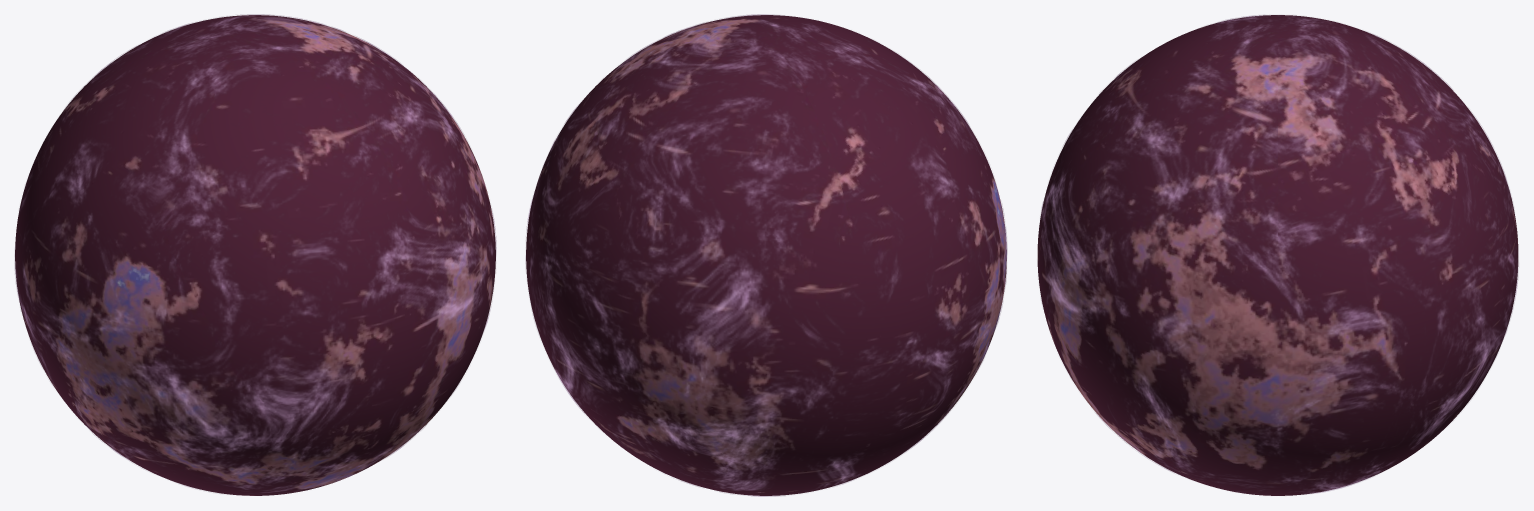
Rendered from red-planet.glb.
3 renders of one model, left to right at view 1: azimuth 30°, elevation 25°; view 2: azimuth 150°, elevation 25°; view 3: azimuth 270°, elevation 25°, orthographic.
Parts seen in each view (by area): view 1: surface.baked, clouds.baked; view 2: surface.baked, clouds.baked; view 3: surface.baked, clouds.baked.
Part boxes in pixels (x1=…): surface.baked: x1=15, y1=15, x2=495, y2=495; clouds.baked: x1=14, y1=14, x2=496, y2=492; surface.baked: x1=526, y1=15, x2=1006, y2=495; clouds.baked: x1=525, y1=14, x2=1007, y2=496; surface.baked: x1=1037, y1=15, x2=1518, y2=495; clouds.baked: x1=1040, y1=14, x2=1518, y2=494.
Bounding box in the file's own units: 2.01 × 2.01 × 2.01.
Materials: 2 (2 with a texture image).
